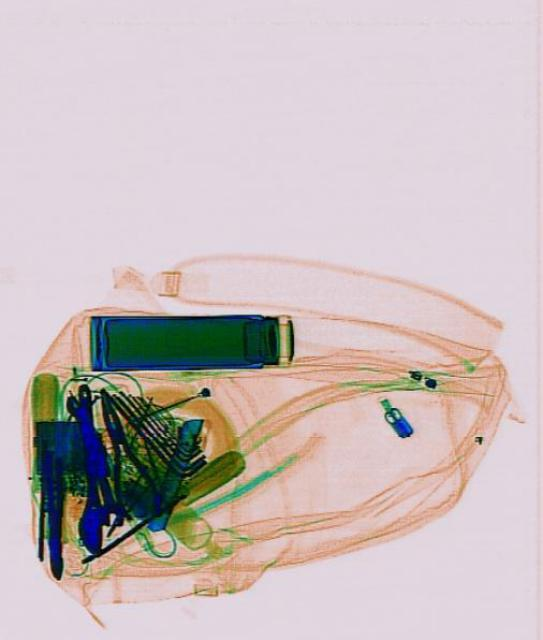Pliers: (79, 377, 165, 528), (36, 449, 67, 578)
Wrench: (55, 388, 124, 532), (64, 380, 109, 554)
